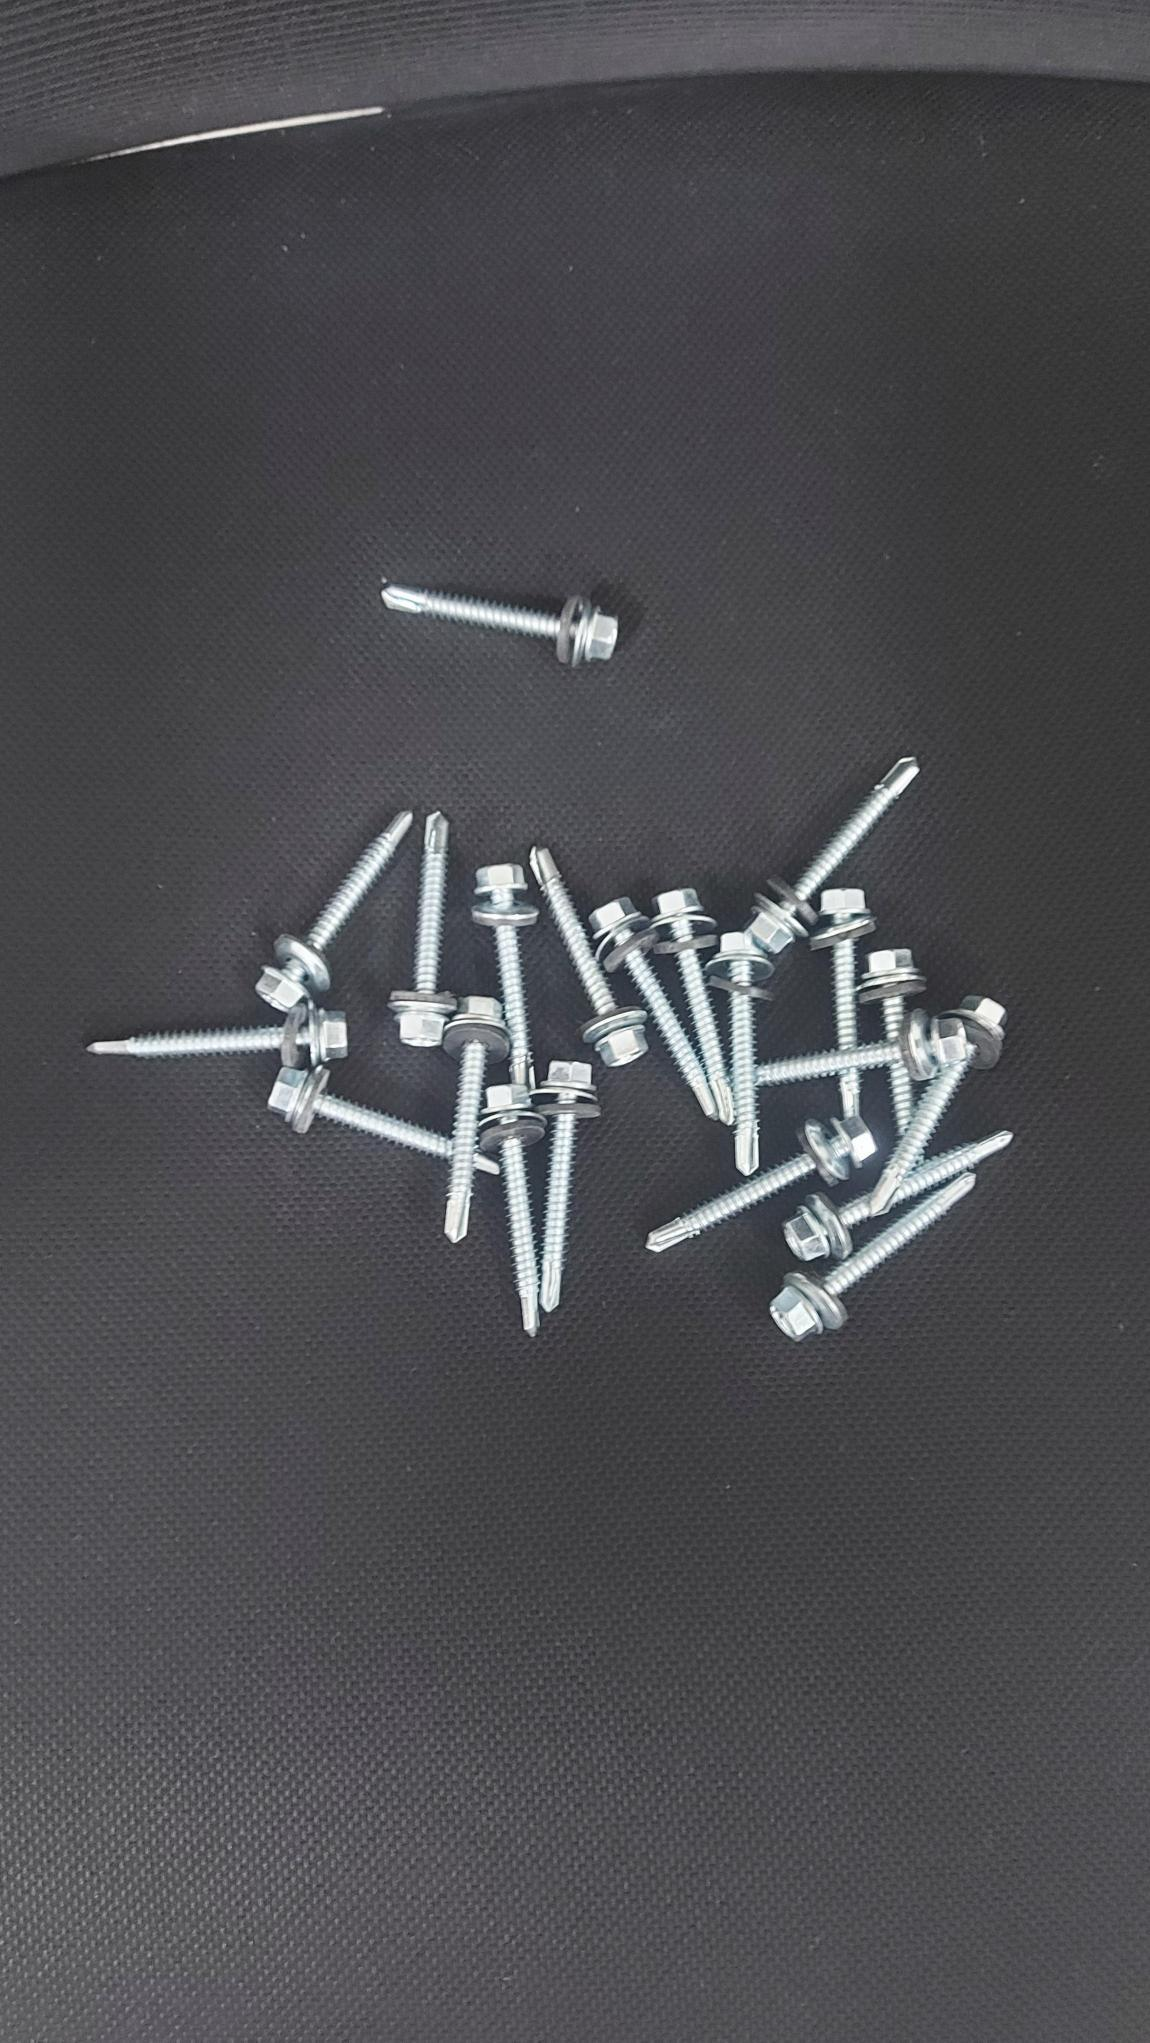Screw: (743, 756, 917, 963), (770, 1173, 975, 1339), (647, 1116, 878, 1256), (257, 811, 410, 1012), (870, 996, 1004, 1217), (589, 897, 719, 1118), (530, 846, 645, 1066), (381, 582, 617, 665), (652, 888, 733, 1124), (87, 1000, 346, 1065), (269, 1066, 452, 1158), (480, 1085, 546, 1334), (534, 1061, 600, 1311), (705, 932, 771, 1174), (443, 996, 508, 1240), (388, 812, 454, 1045), (473, 864, 539, 1087), (757, 1010, 954, 1085), (809, 887, 874, 1050), (892, 1130, 1011, 1203), (858, 949, 924, 1043), (783, 1193, 870, 1261), (889, 1062, 913, 1132), (840, 1066, 860, 1116), (473, 1158, 496, 1172)
